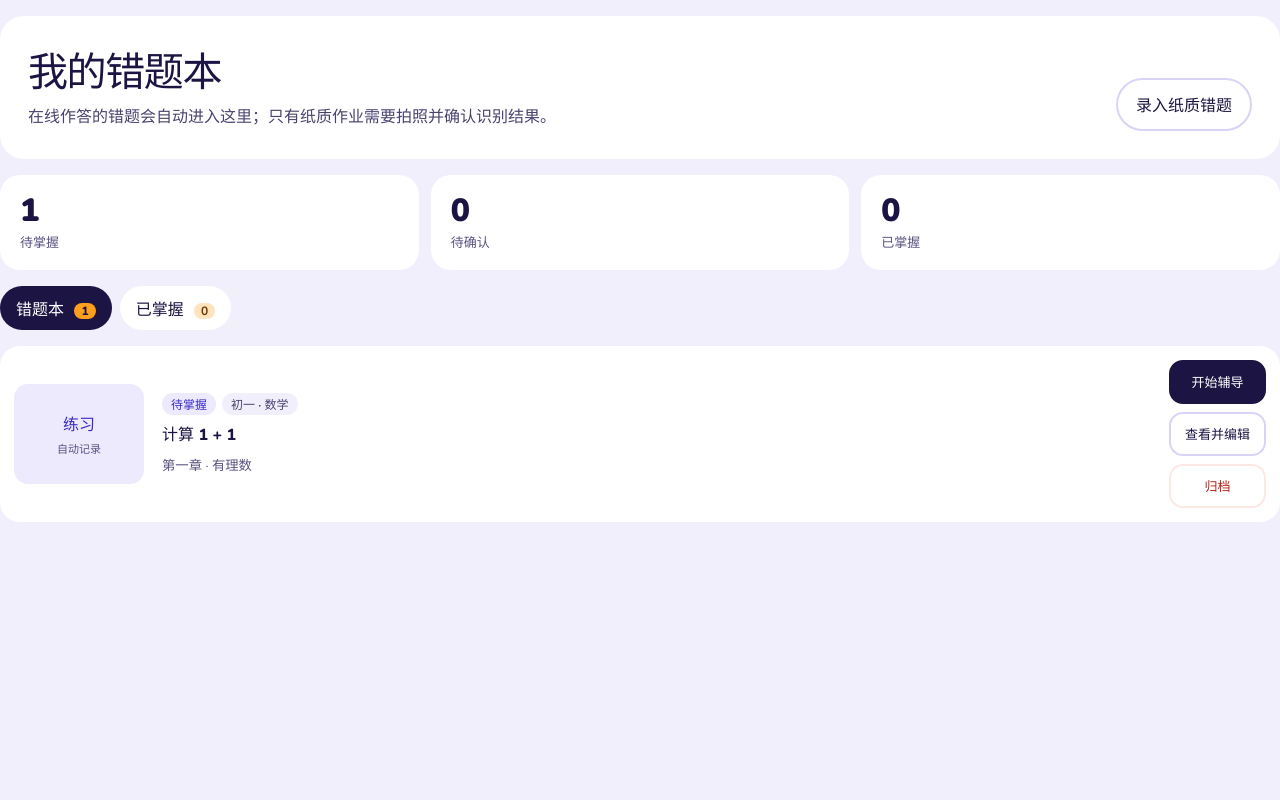
Test: MistakeLibrary archive confirmation › user Given an unmastered mistake When the student cancels archiving Then the dialog explains what is cleared and nothing is archived
Click the button "归档". click: coordinates (1218, 486)
box: [1169,464,1266,508]
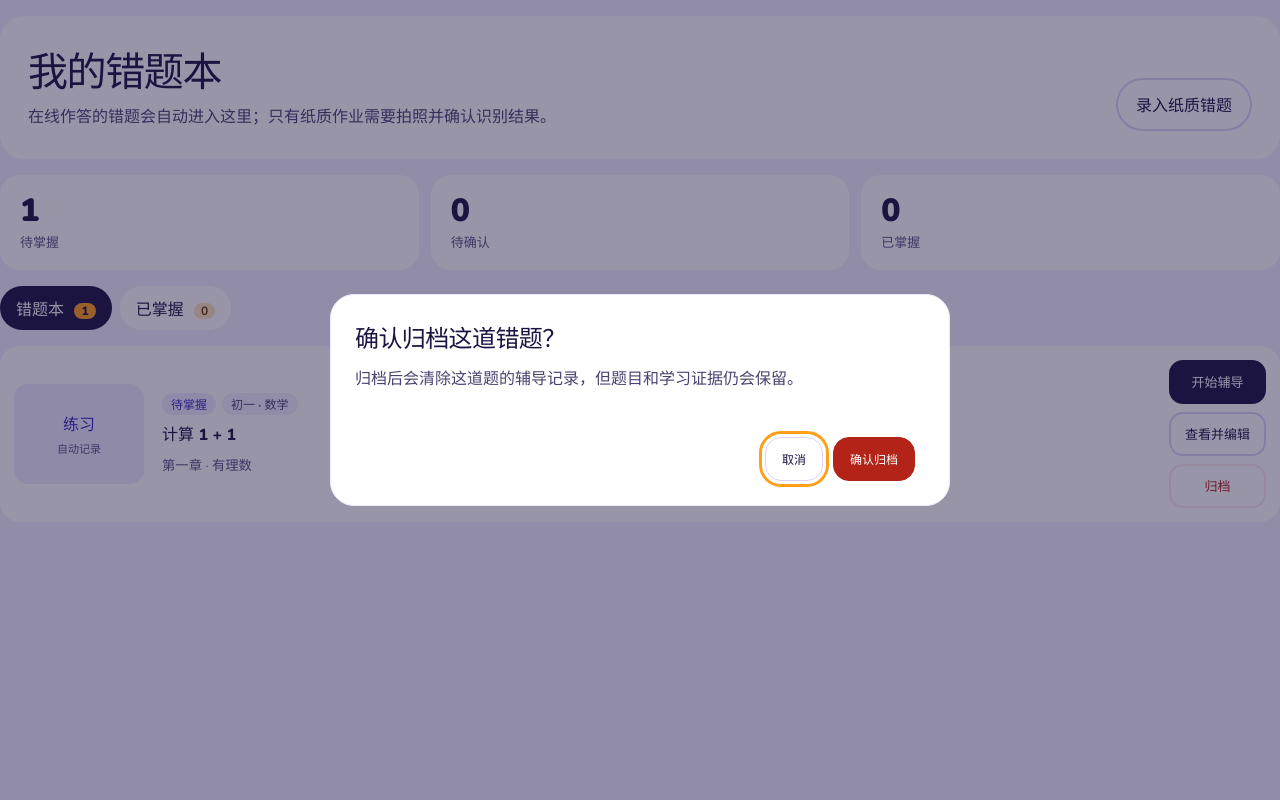
Click the button "取消". click: coordinates (794, 459)
box: [765,437,823,481]
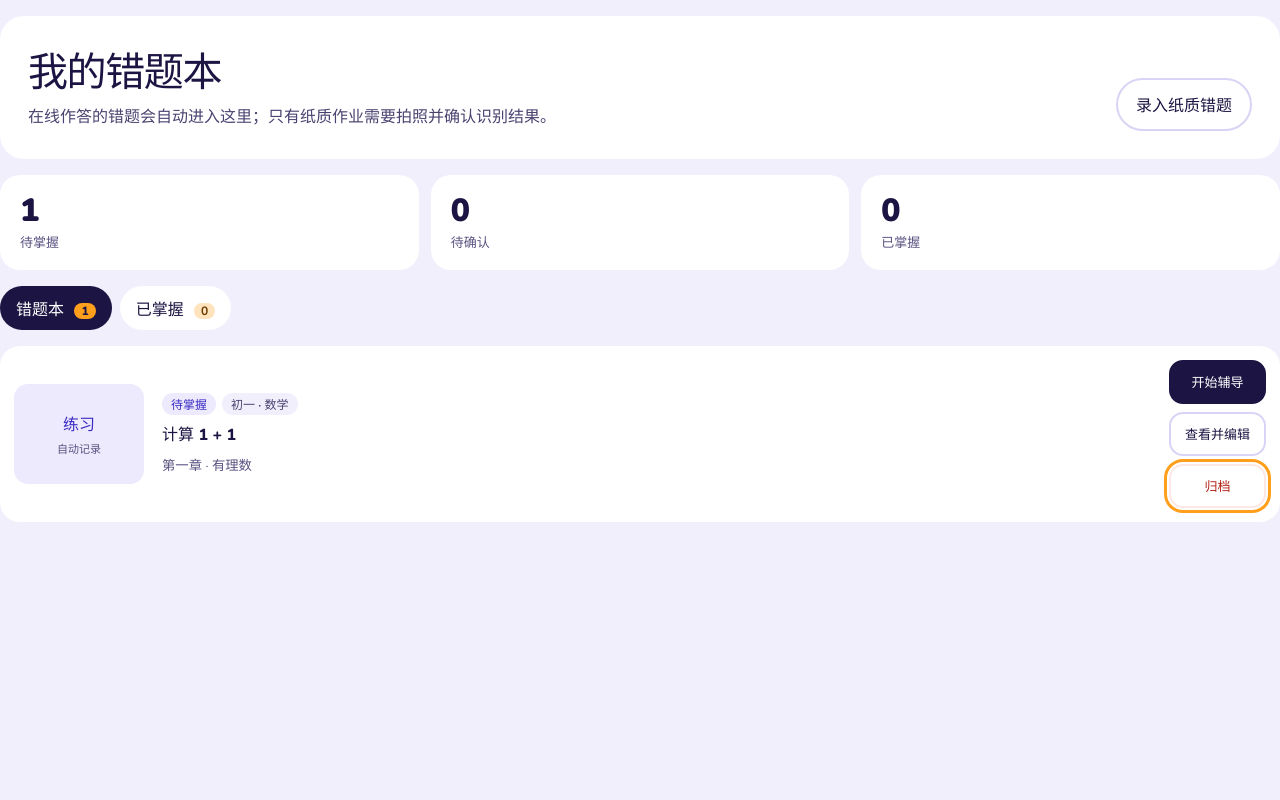
Now the dialog is gone
